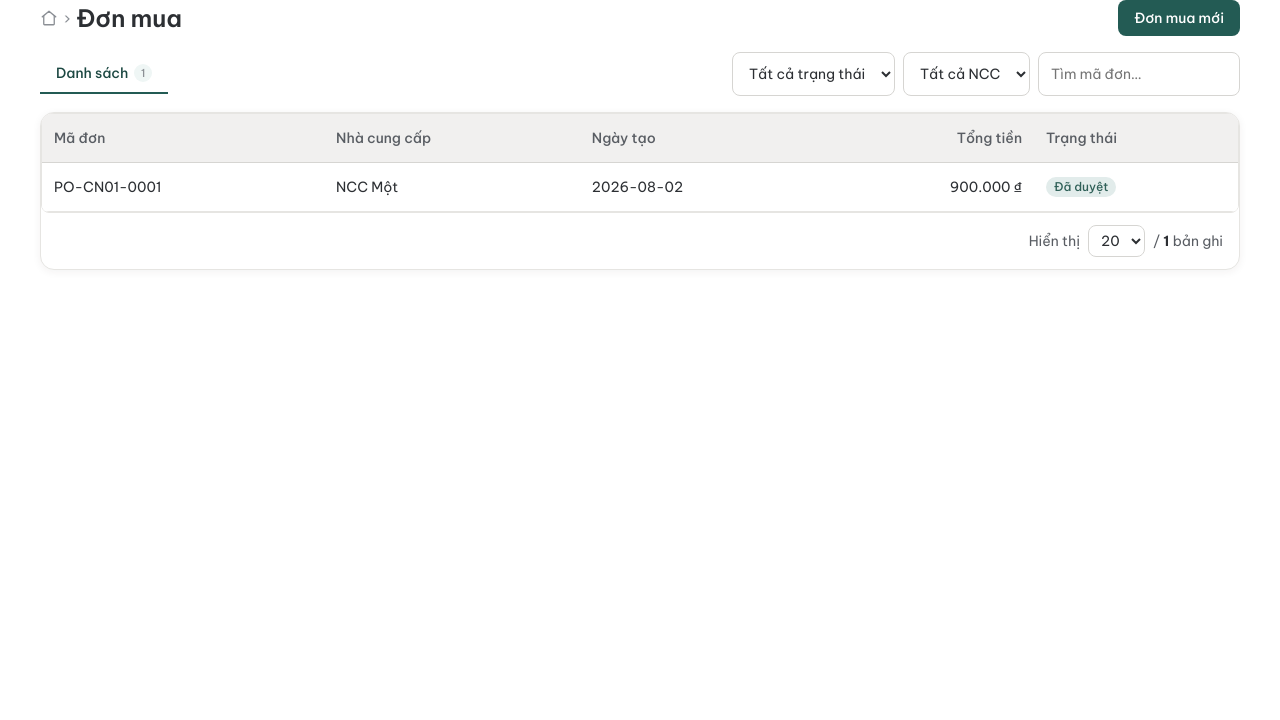
Test: PurchaseOrdersPage › shows send + reject for an APPROVED order to an approver
The image size is (1280, 720).
Click the text "PO-CN01-0001": [183, 187] box [42, 162, 324, 212]
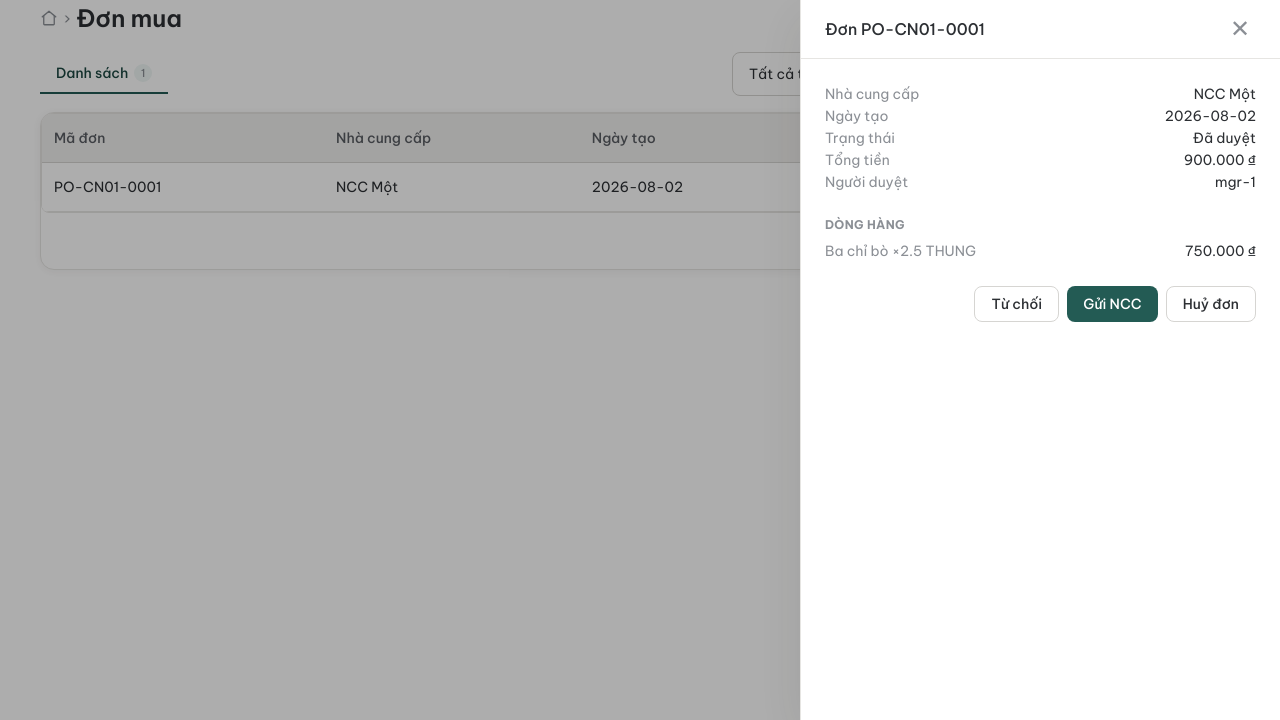
Expected: the button "Gửi NCC" is shown, [1067, 286, 1158, 322]
Expected: the button "Từ chối" is shown, [974, 286, 1059, 322]
